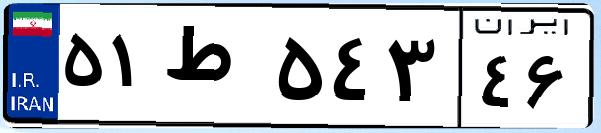1: (110, 28, 158, 98)
3: (385, 28, 445, 110)
4: (330, 28, 385, 110), (475, 38, 525, 113)
5: (270, 28, 330, 110), (57, 26, 110, 100)
6: (525, 38, 570, 115)
ط: (158, 20, 270, 120)
